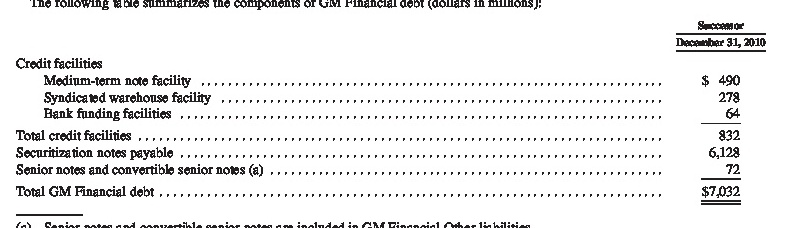table: (0, 0, 789, 228)
